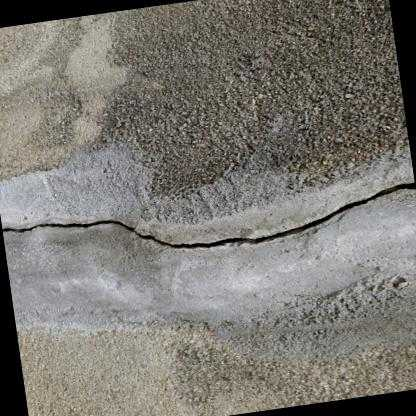crack: (1, 182, 415, 249)
